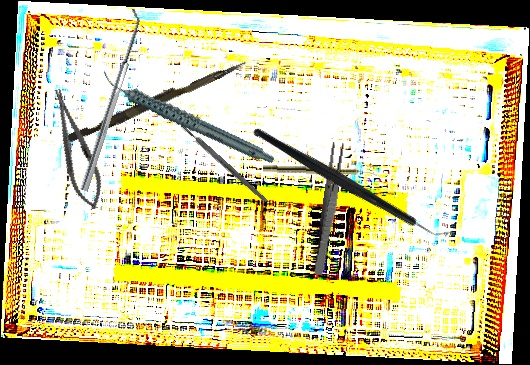Chopper: (251, 72, 457, 293)
Dressing Forceps: (312, 141, 346, 277)
Handpiece: (98, 39, 277, 197), (262, 165, 378, 177)
Needle Holder: (42, 84, 111, 214)
Pusher: (66, 53, 248, 148)
Scalpel Handle: (179, 122, 269, 205)
Spatula Surgical: (73, 8, 146, 192)
